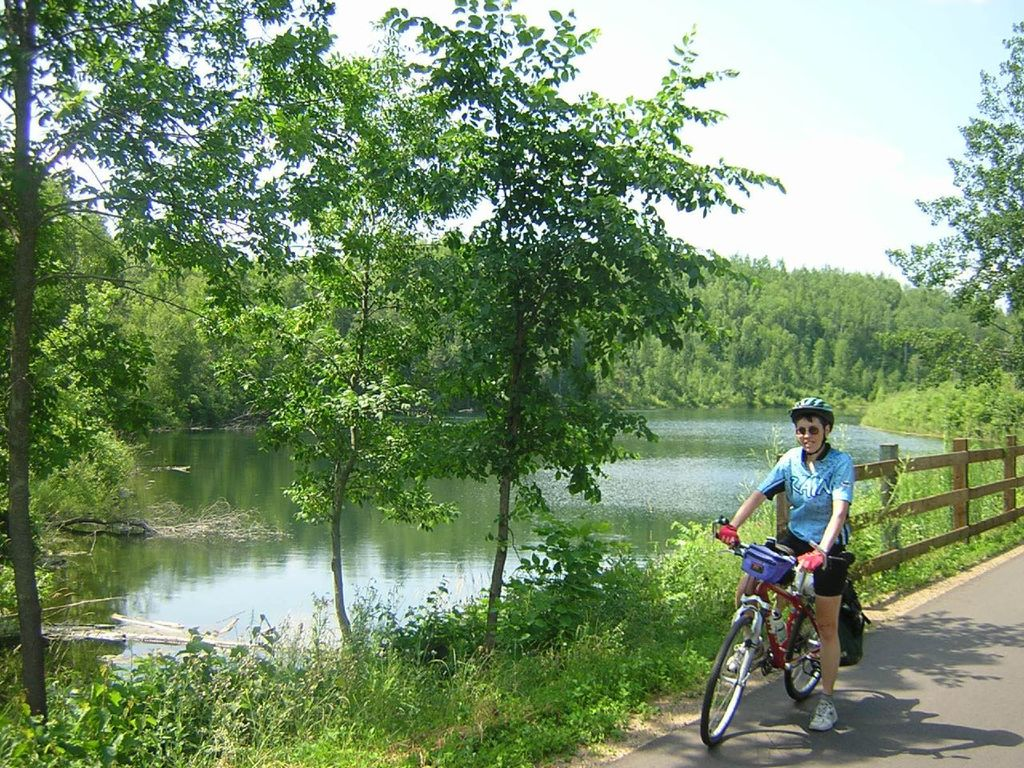Bike_toward: (699, 517, 865, 748)
